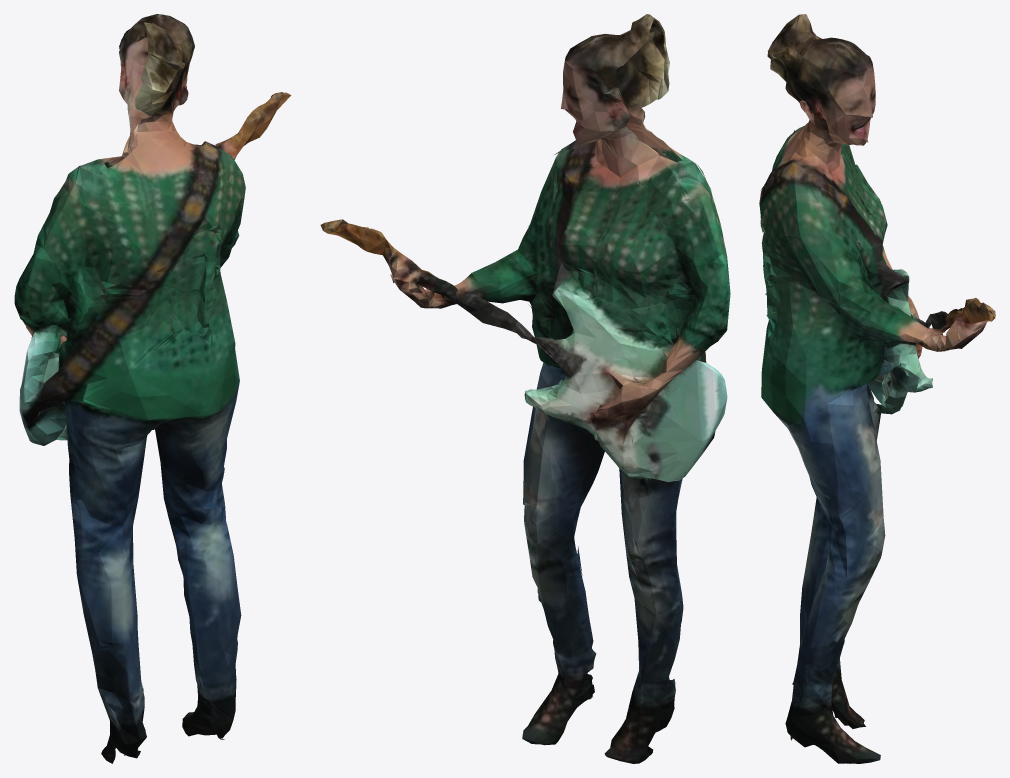
The picture shows the model from 3 angles, left to right: view 1: azimuth 30°, elevation 25°; view 2: azimuth 150°, elevation 25°; view 3: azimuth 270°, elevation 25°; orthographic projection. The views are drawn at different scales.
Parts seen in each view (by area): view 1: dec_0017; view 2: dec_0017; view 3: dec_0017.
Part boxes in pixels (box(x1,y1,x2,y2)): dec_0017: box(14, 14, 291, 763); dec_0017: box(320, 14, 730, 763); dec_0017: box(759, 14, 995, 763).
Bounding box in the file's own units: 0.834 × 1.73 × 0.5193.
1 material, 1 textured.
